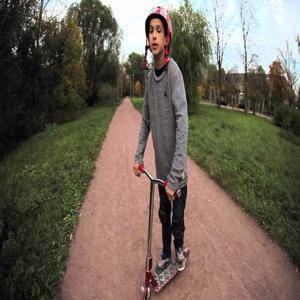human on a scooter: (132, 6, 192, 300)
